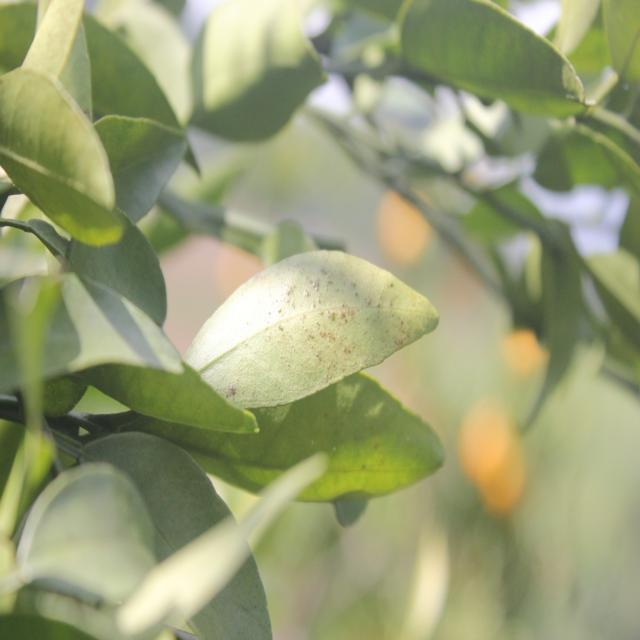melanose: (191, 239, 438, 417)
